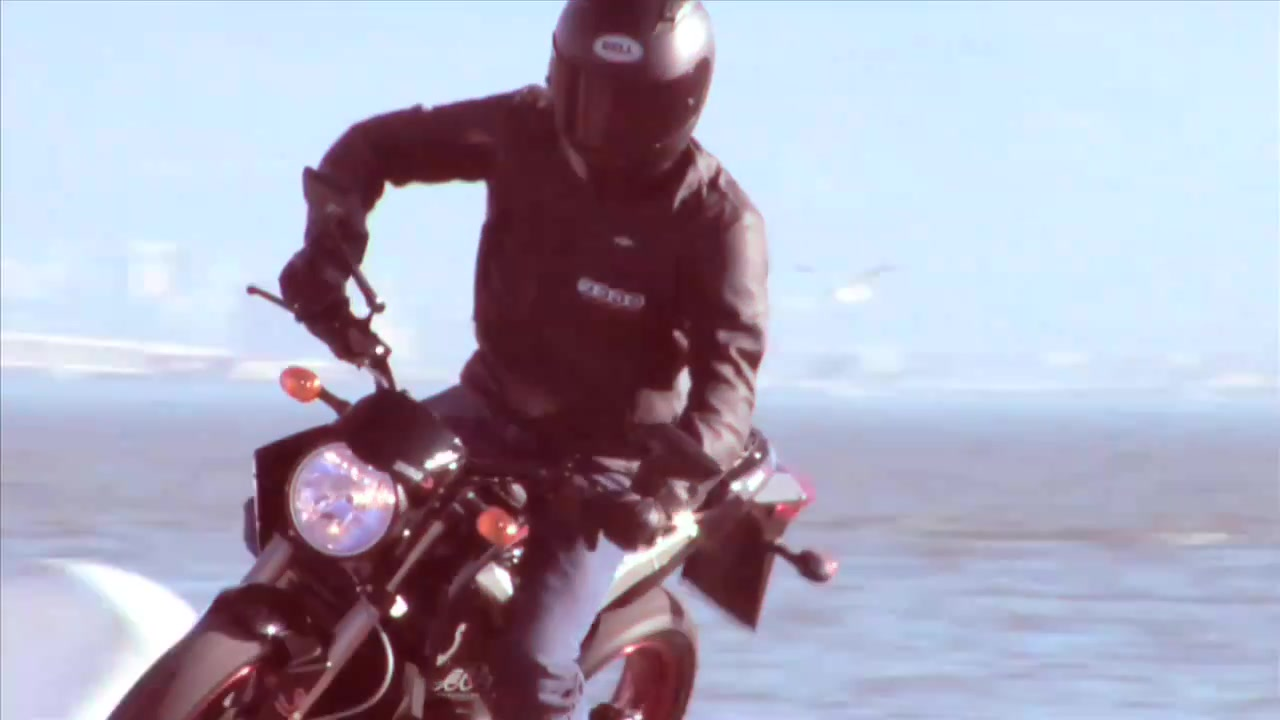motorbike: (88, 230, 836, 720)
